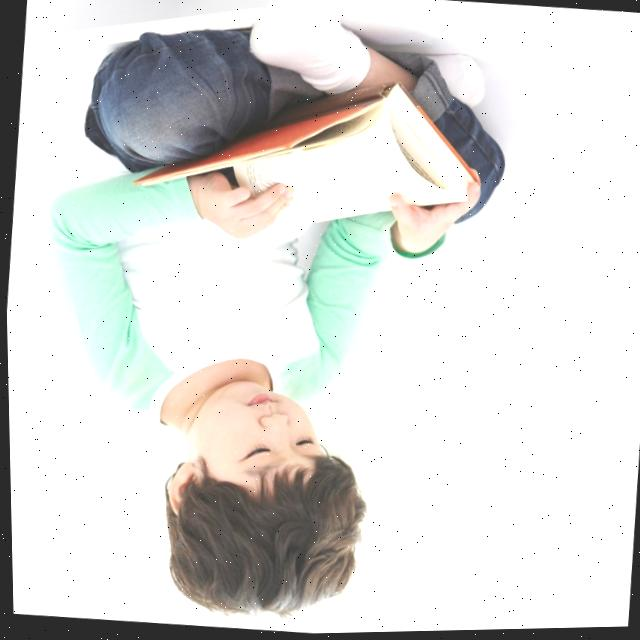studying-person: (0, 0, 532, 640)
